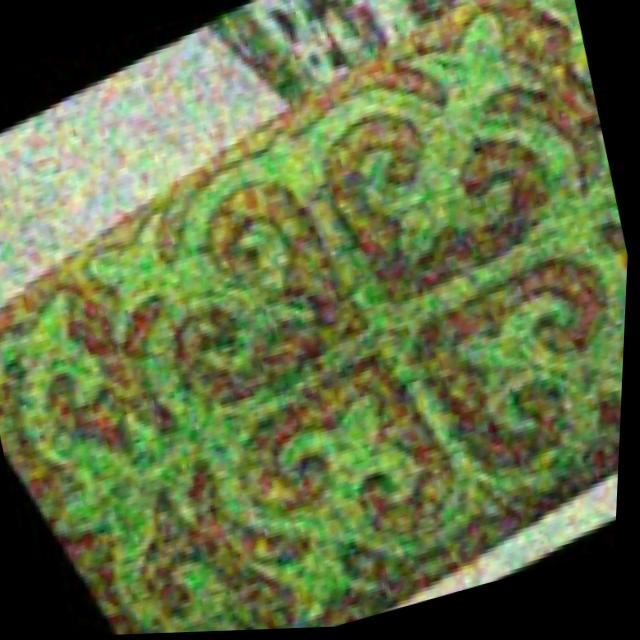Unity: (73, 0, 625, 628)
